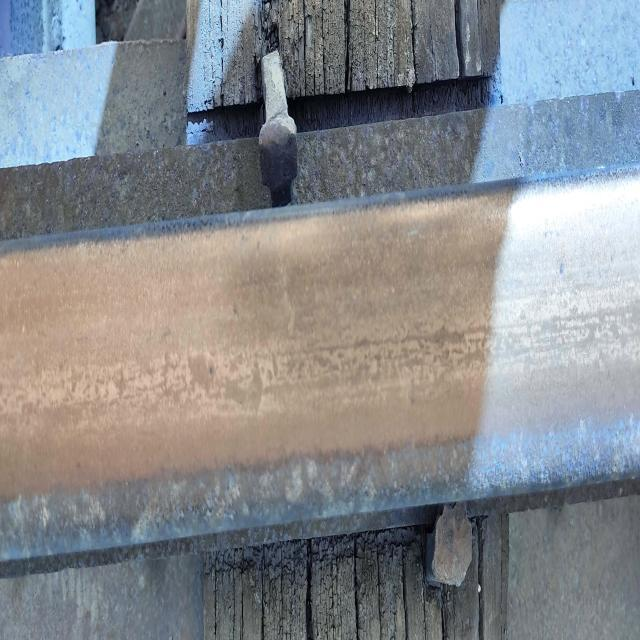Good Fasteners: (258, 50, 297, 206), (430, 503, 472, 586)
